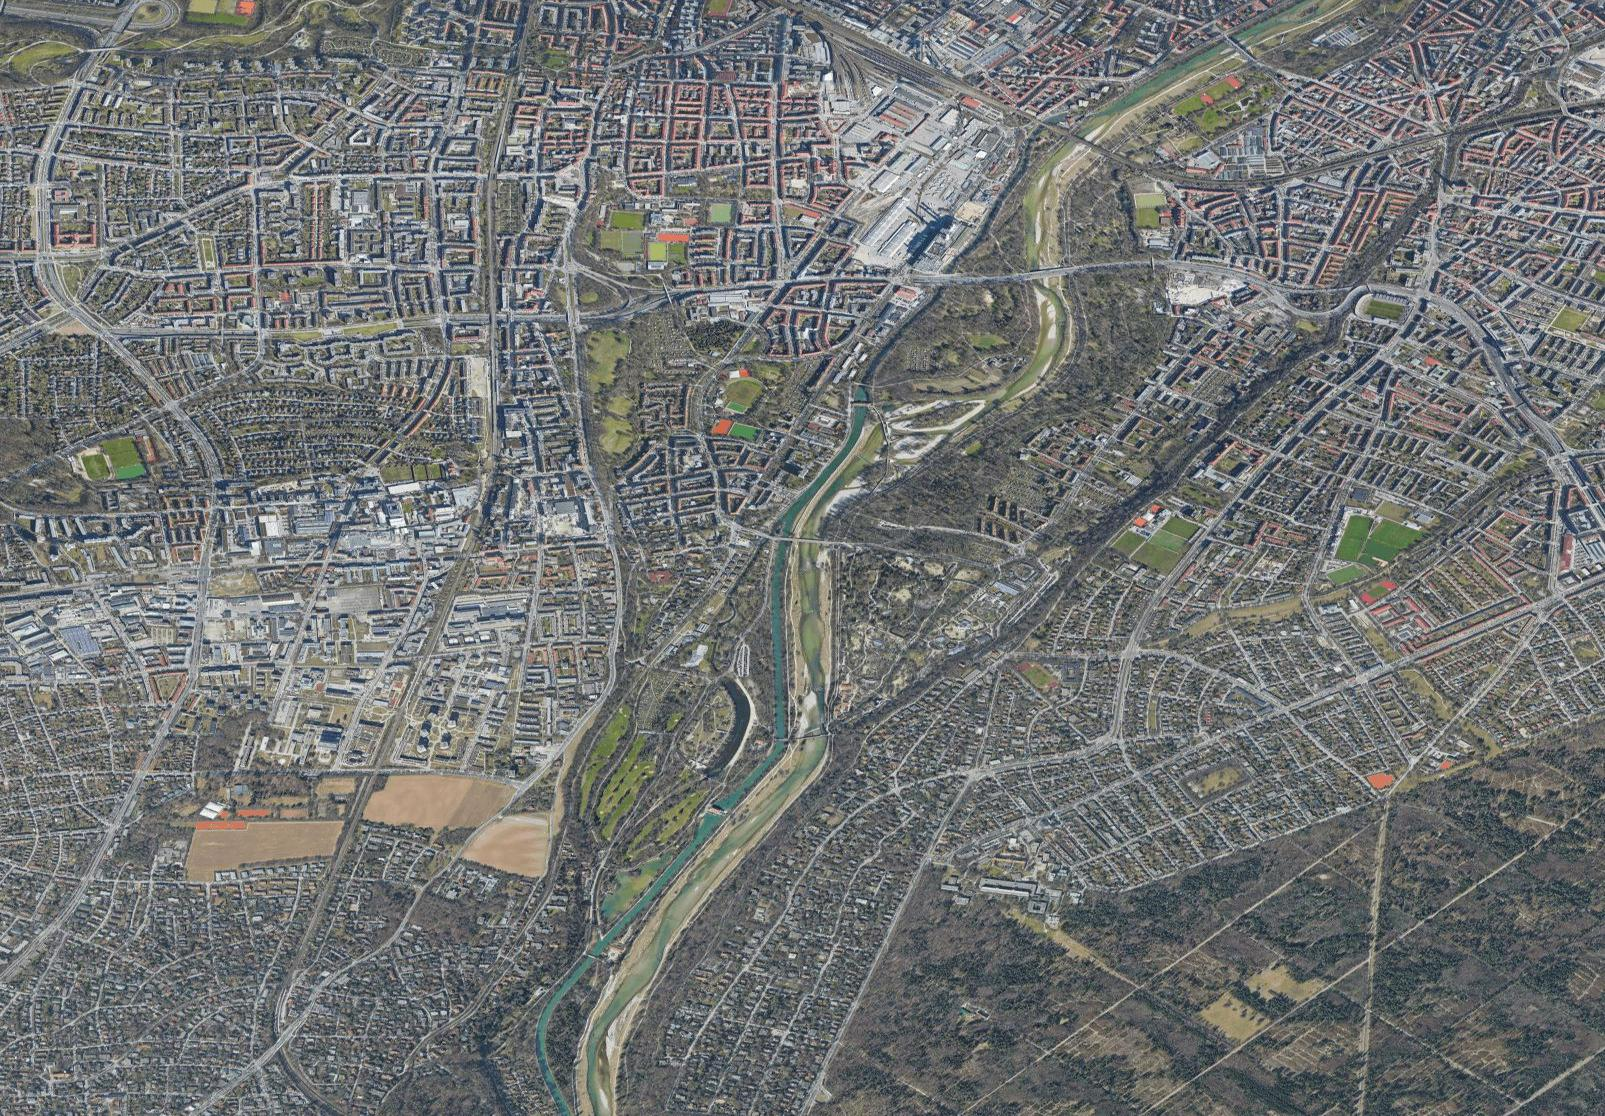bridge: (1046, 120, 1085, 145), (1217, 29, 1248, 59), (766, 527, 798, 549), (702, 799, 734, 821), (581, 946, 606, 966)
industrial: (848, 98, 996, 252)
motorway: (912, 266, 1050, 288), (1051, 252, 1189, 274)
